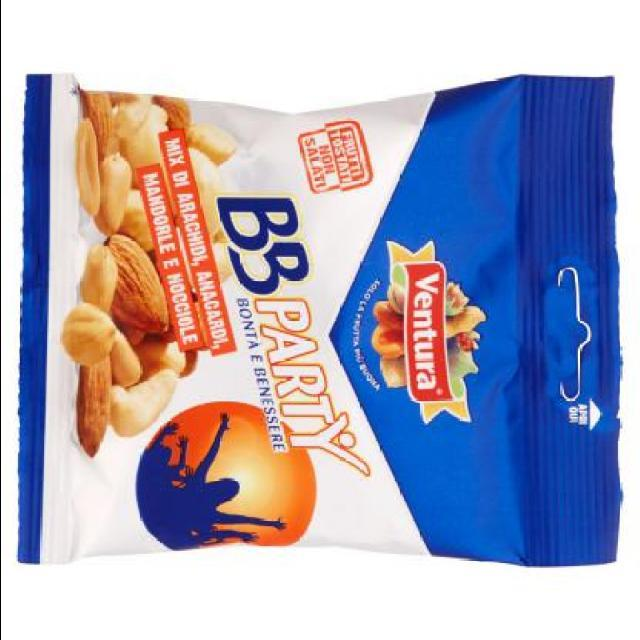Frutta secca: (66, 240, 154, 458)
